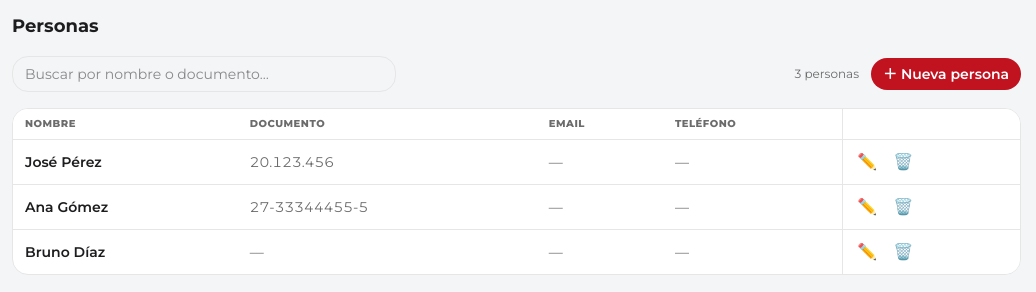
Test: PersonasLista — buscar › sin coincidencias lo dice, en vez de una tabla vacía
This screenshot has width=1036, height=292.
Type "zzz" into the search field at (204, 74), box x1=12 y1=56 x2=396 y2=92
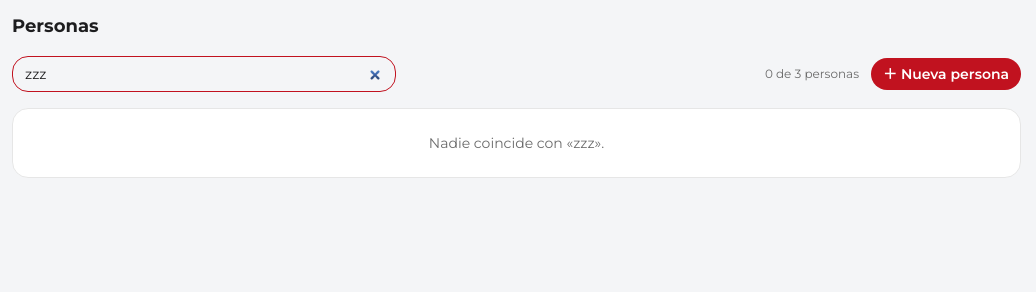
Now the text "Nadie coincide con «zzz»." is shown, box x1=12 y1=108 x2=1021 y2=178
